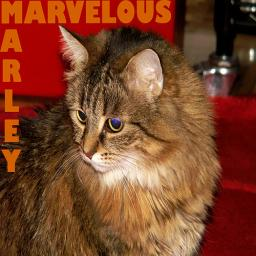catnose: (82, 142, 98, 160)
